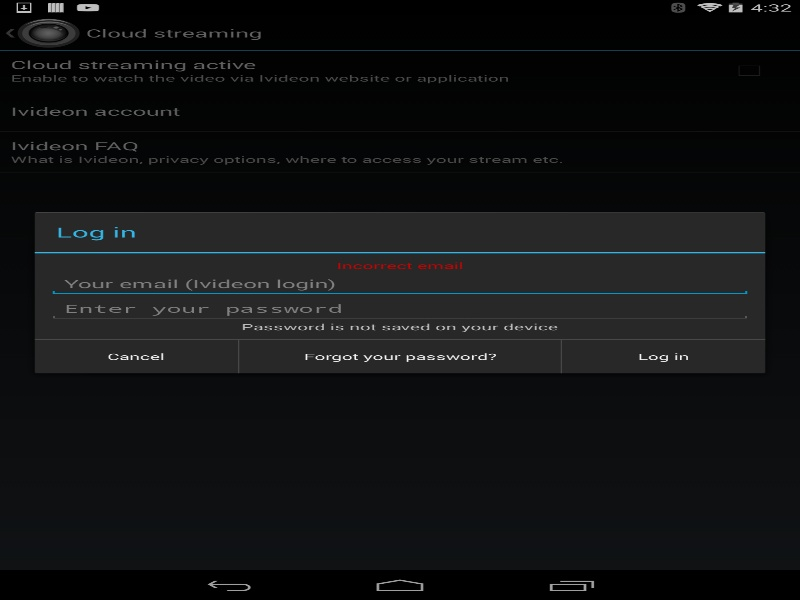Button: (239, 339, 560, 373), (34, 339, 238, 373), (562, 339, 765, 373)
Input: (48, 271, 752, 296), (48, 296, 752, 320)
